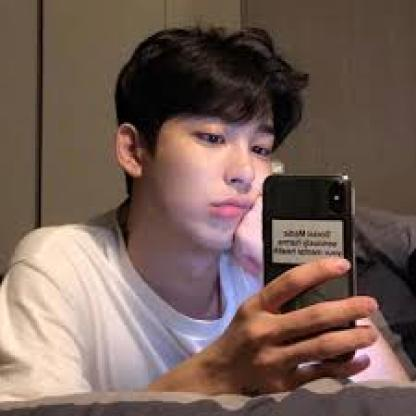person: (108, 20, 300, 246)
